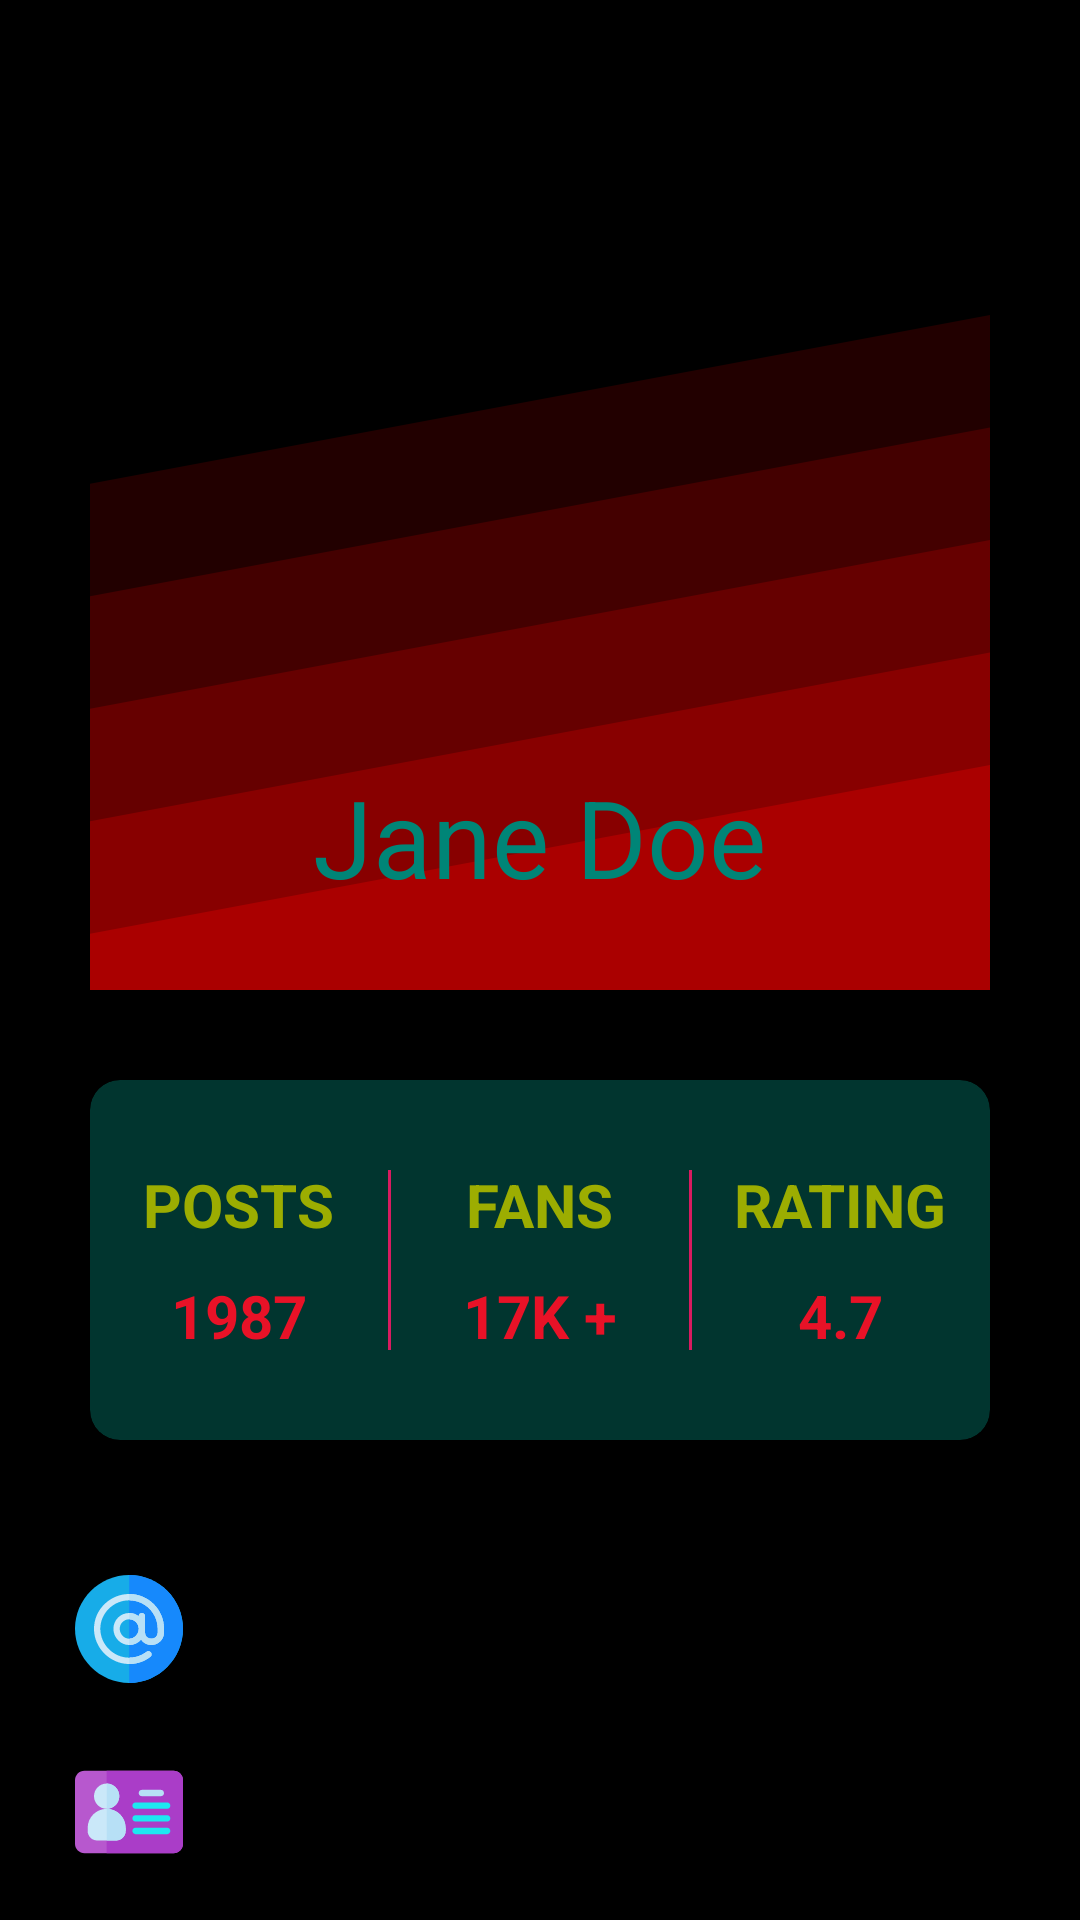

Icons on this 1080x1920 Android screen, each with the point to tap as (x,y):
email: (129,1629)
